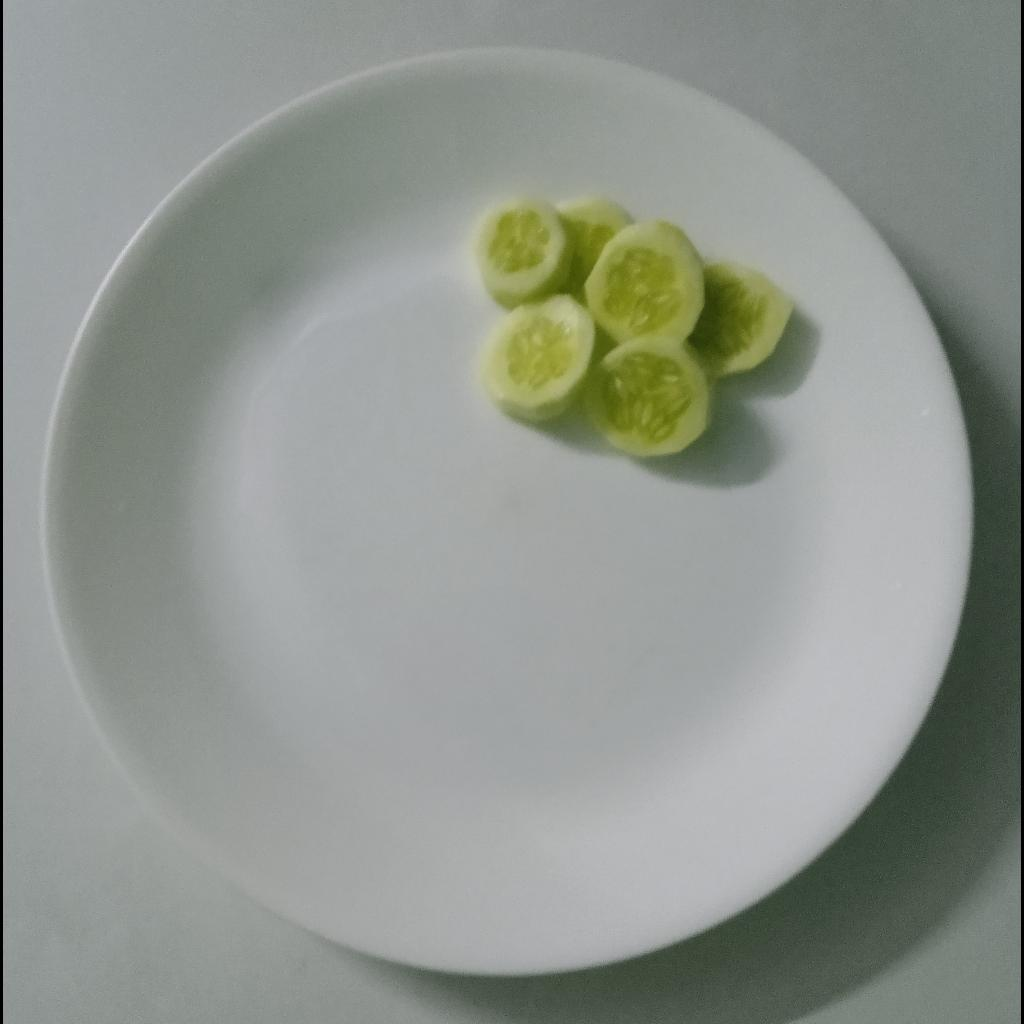cucumber: (472, 198, 799, 458)
